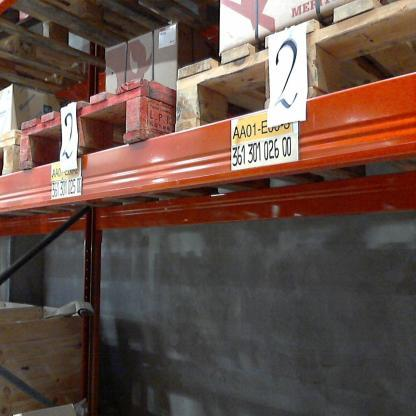pallets: (169, 0, 416, 137), (18, 65, 188, 183), (0, 94, 52, 194)
